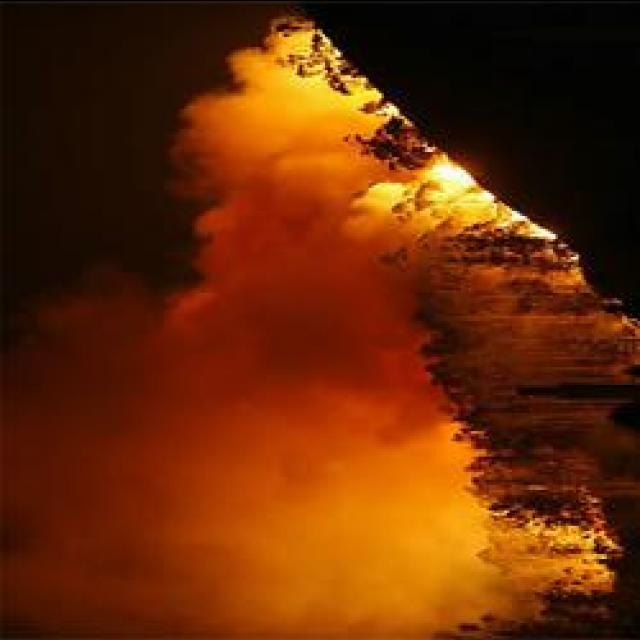fire: (428, 158, 476, 204)
smoke: (13, 267, 203, 634), (148, 423, 454, 638), (164, 175, 398, 337), (176, 40, 280, 236), (454, 524, 552, 606)
